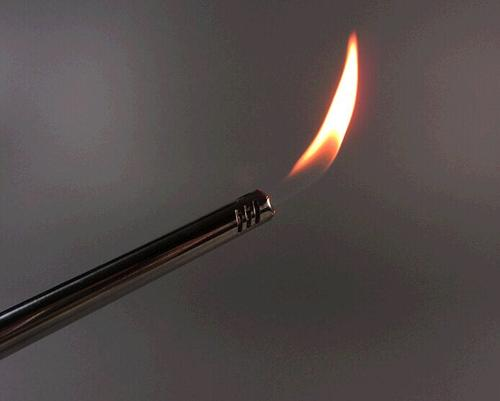fire: (272, 27, 387, 204)
